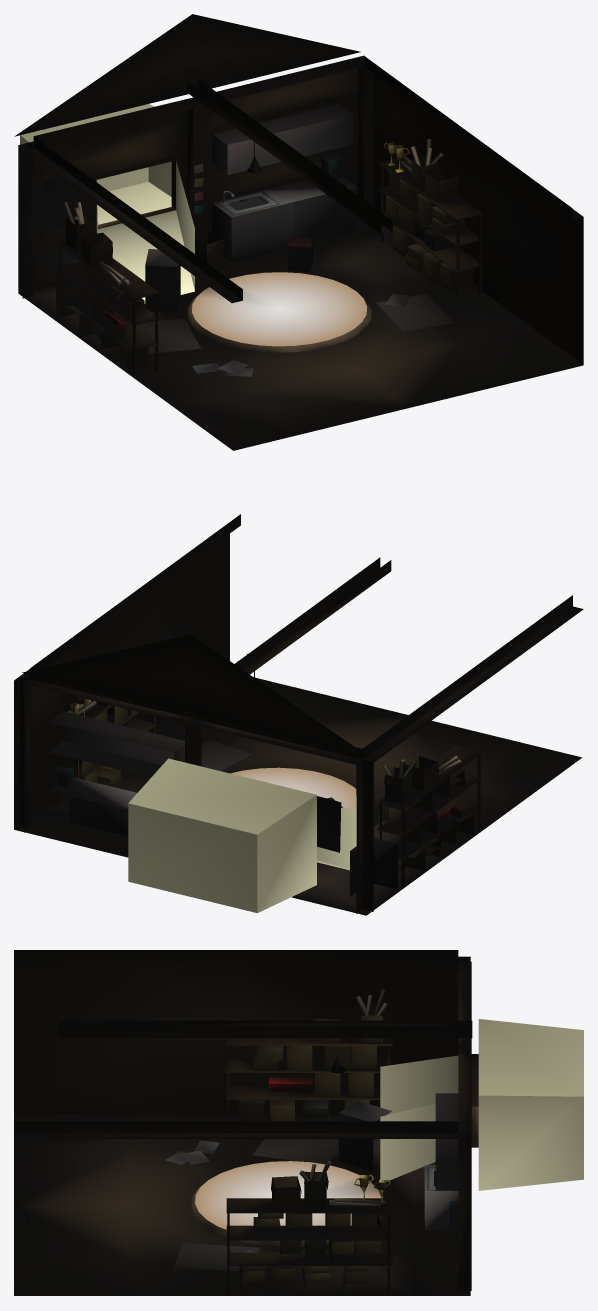
The model's file is CustomRoom_01.fbx.
3 views of the same model, one above another, from view 1: azimuth 30°, elevation 25°; view 2: azimuth 150°, elevation 25°; view 3: azimuth 270°, elevation 25° (orthographic). The views are drawn at different scales.
Parts seen in each view (by area): view 1: Room_01, Base_01; view 2: Room_01, Base_01; view 3: Room_01, Base_01.
Boxes of the visible parts, x1=… form: Room_01: x1=14, y1=14, x2=583, y2=450; Base_01: x1=187, y1=272, x2=371, y2=352; Room_01: x1=14, y1=514, x2=583, y2=915; Base_01: x1=230, y1=767, x2=356, y2=809; Room_01: x1=14, y1=950, x2=583, y2=1295; Base_01: x1=190, y1=1161, x2=384, y2=1246.
Size of the model in its own units: 824 by 526 by 1077.
